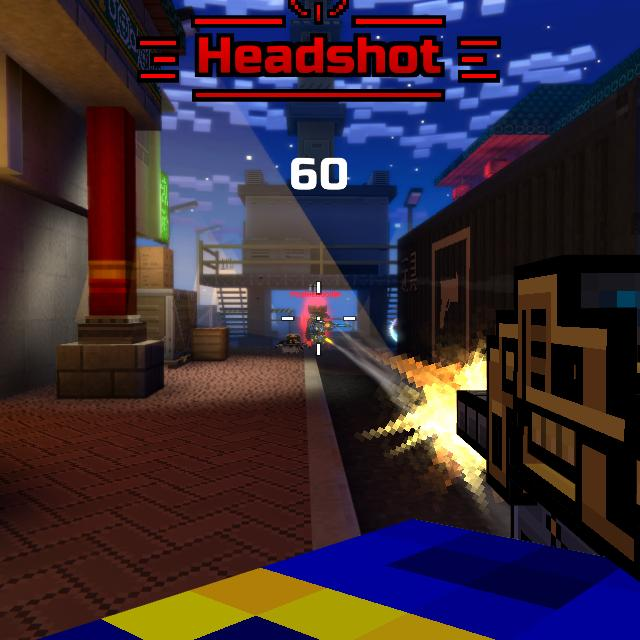Enemy: (308, 306, 335, 351)
